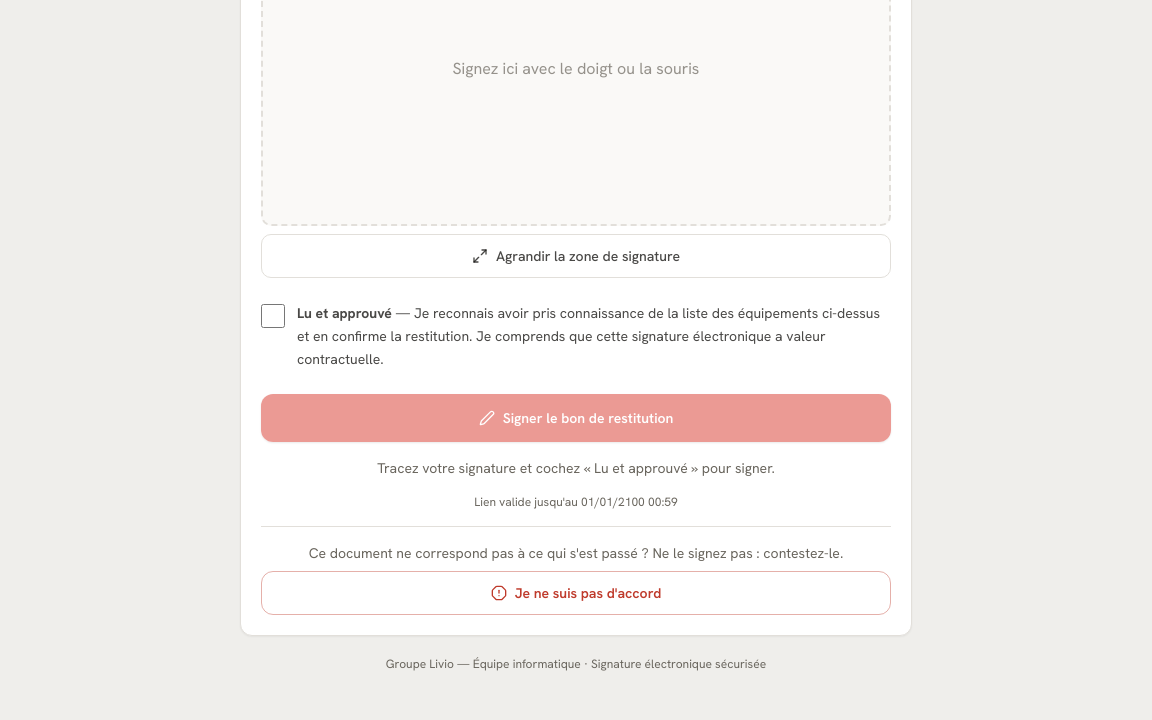
SignaturePage › restitution à signer : « Je ne suis pas d’accord » envoie une contestation de la restitution (R-054)
(page scrolled)
Click the button "Je ne suis pas d'accord" at (576, 593), box [261, 571, 891, 615]
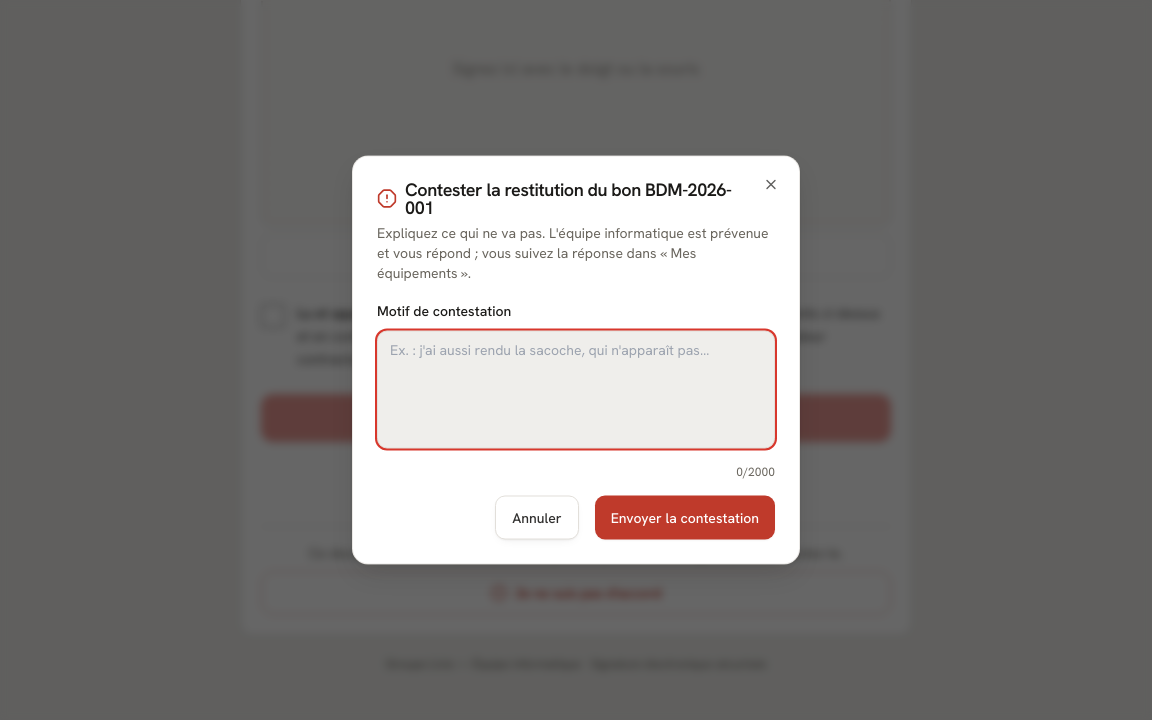
Expected: the dialog "Contester la restitution du bon BDM-2026-001" is shown, [352, 156, 800, 564]
Type "J’ai aussi rendu la sacoche." into the text box labelled "Motif de contestation" at (576, 390), box [377, 330, 775, 448]
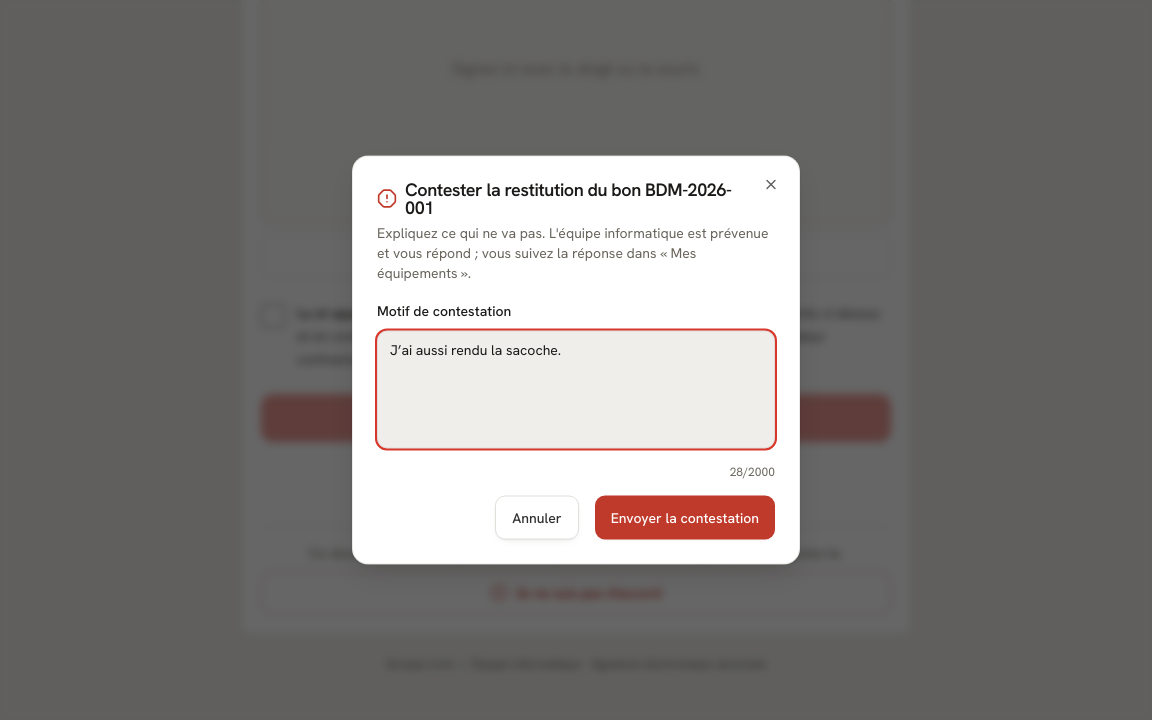
Click the button "Envoyer la contestation" at (685, 518), box [595, 496, 775, 540]
(page scrolled)
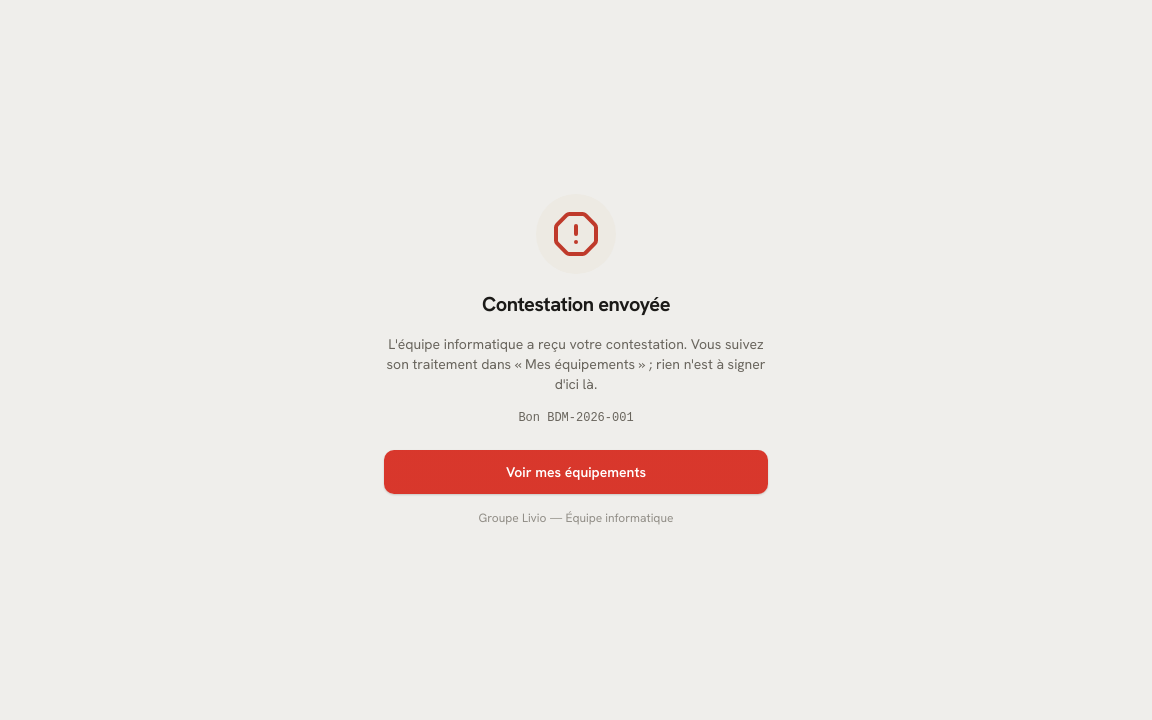
Expected: the heading "Contestation envoyée" is shown, [482, 291, 670, 317]
